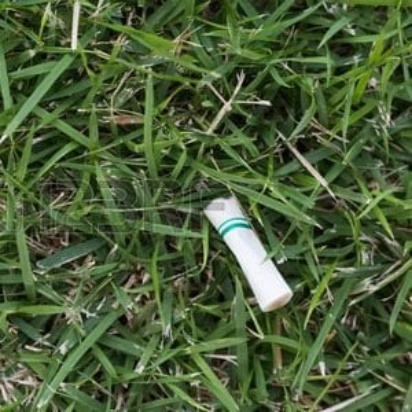cigarette: (204, 187, 299, 316)
